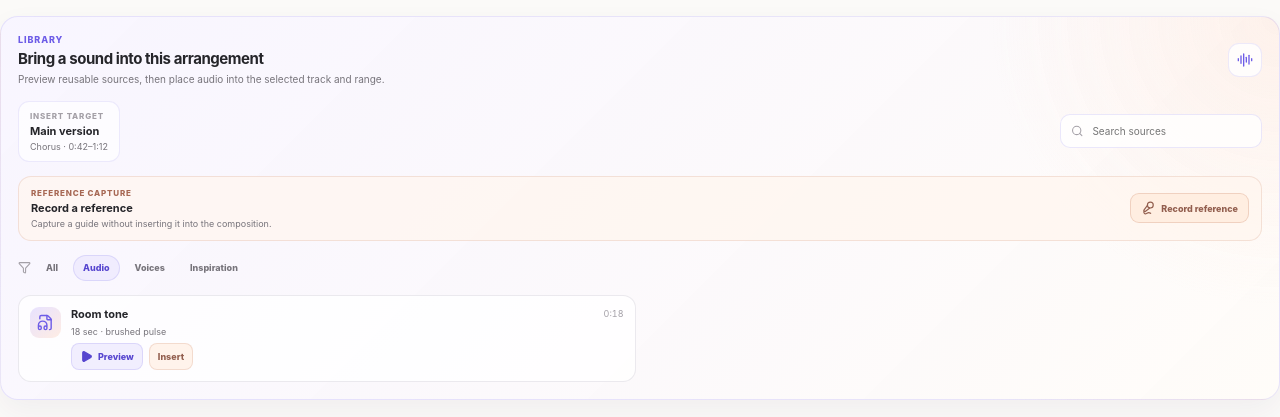
StudioAssetDock › records a reference and sends the completed recording to the parent without inserting it
Click the button "Record reference". click: (1190, 208)
box: [1130,193,1249,223]
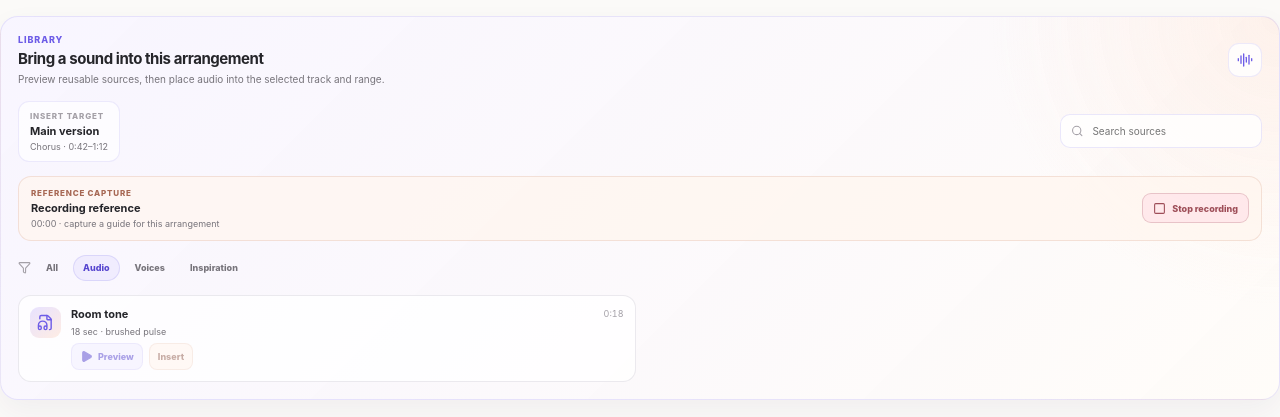
Result: the button "Stop recording" is shown
Result: the text "00:00 · capture a guide for this arrangement" is shown at [31,218,220,228]
Click the button "Stop recording". click: (1196, 208)
box: [1142,193,1249,223]
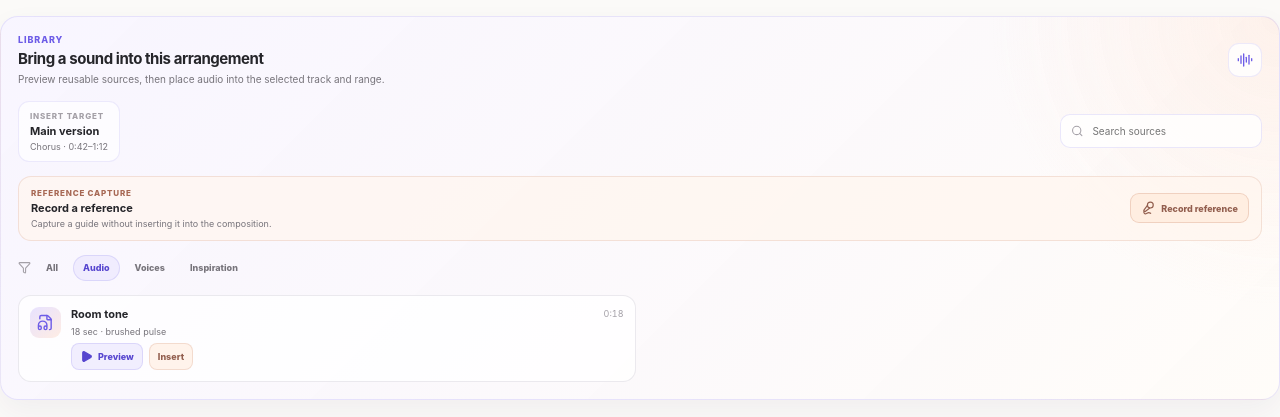
Result: the button "Record reference" is shown at [1130,193,1249,223]
